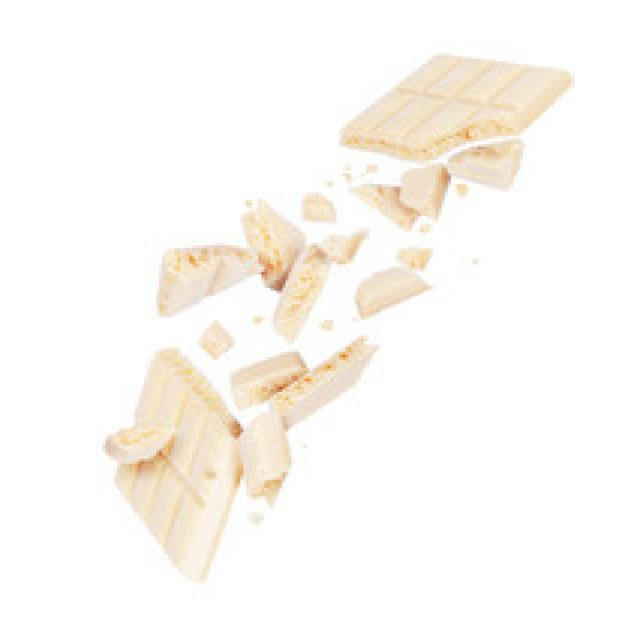chocolate: (112, 347, 264, 588), (341, 47, 578, 165)
